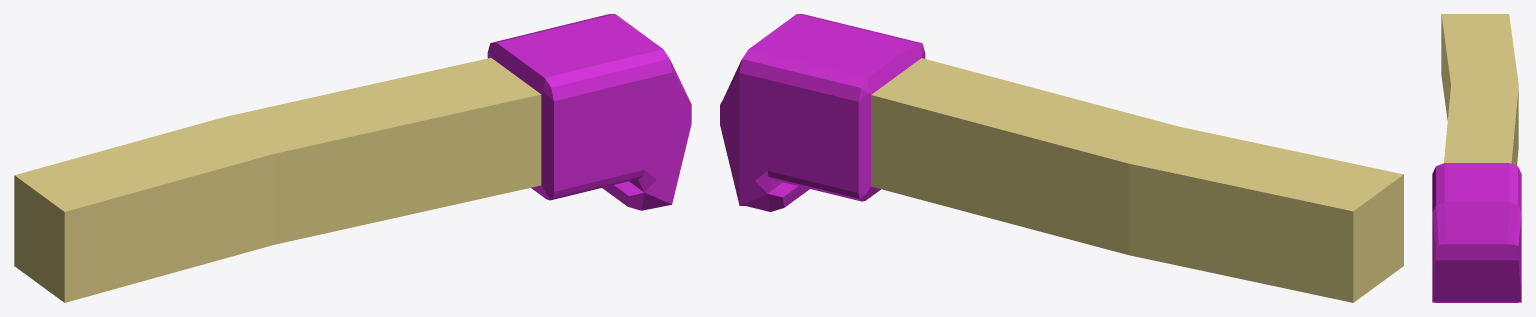
The model's file is Jab.glb.
3 views of the same model, side by side, from view 1: azimuth 30°, elevation 25°; view 2: azimuth 150°, elevation 25°; view 3: azimuth 270°, elevation 25° (orthographic). The views are drawn at different scales.
Visible parts, largest first — view 1: Jab_Model; view 2: Jab_Model; view 3: Jab_Model.
Part boxes in pixels (x1,y1,x2,y2): Jab_Model: [14, 14, 691, 302]; Jab_Model: [720, 14, 1403, 302]; Jab_Model: [1432, 14, 1521, 302].
Size of the model in its own units: 6.17 by 1.43 by 1.14.
1 material, 1 textured.
